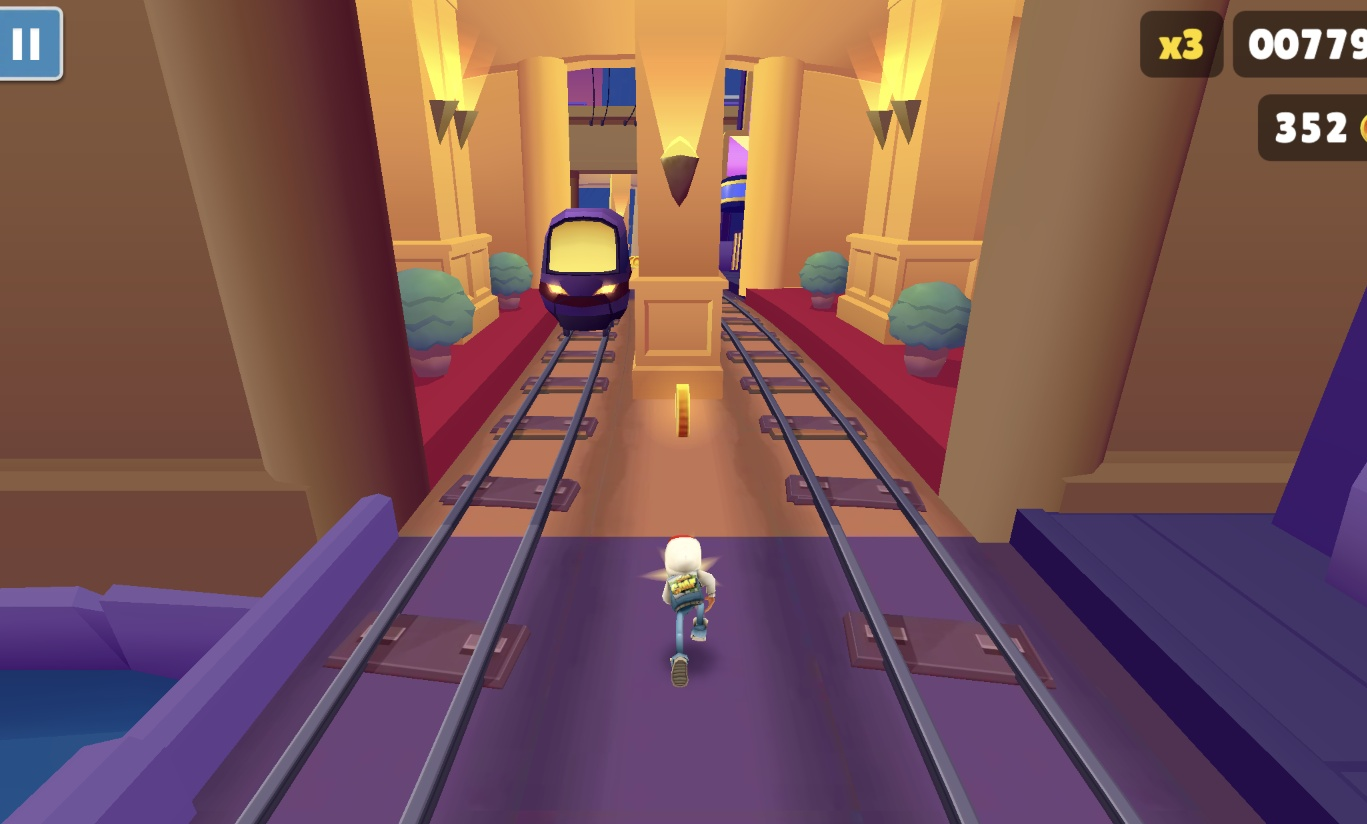pillar: (631, 0, 727, 400)
train: (537, 207, 632, 339)
